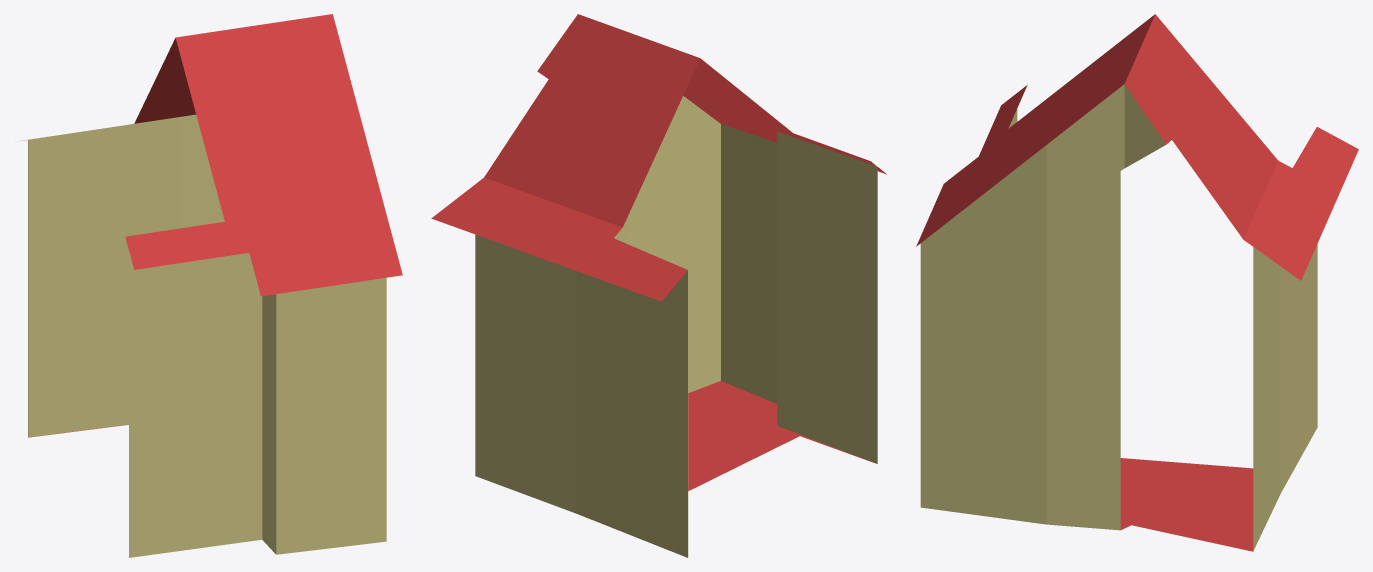
3 renders of one model, left to right at view 1: azimuth 30°, elevation 25°; view 2: azimuth 150°, elevation 25°; view 3: azimuth 270°, elevation 25°, orthographic. The views are drawn at different scales.
Bounding box in the file's own units: 11.47 × 13.44 × 14.96.
